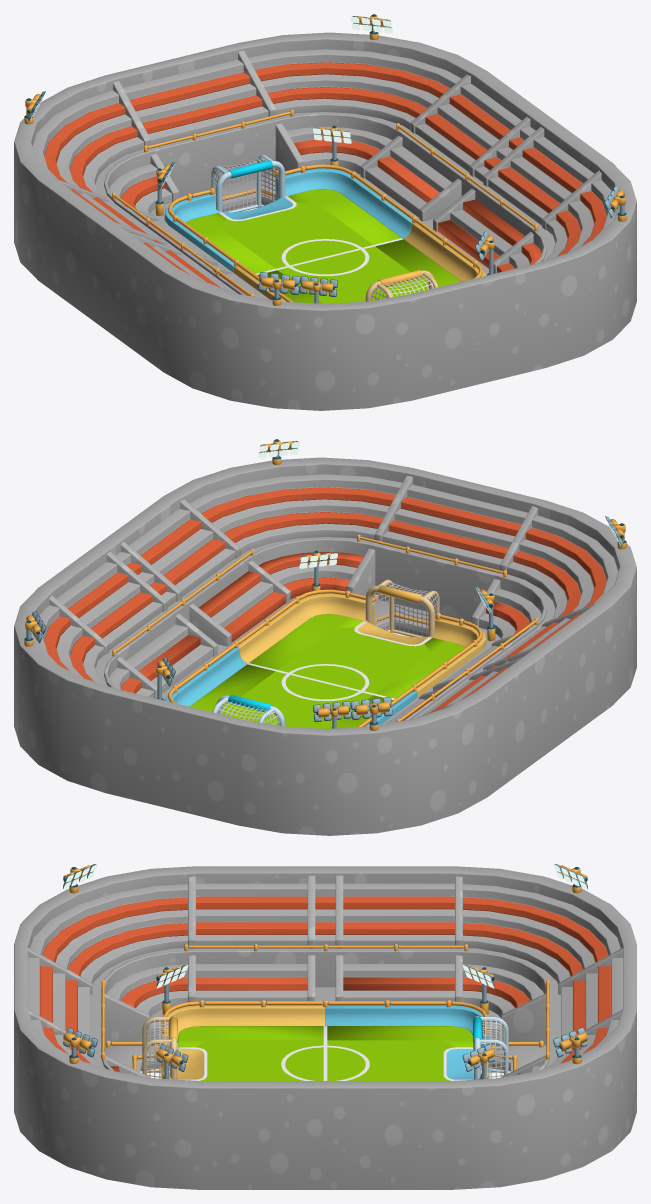
The model's file is stadium2.glb.
The picture shows the model from 3 angles, top to bottom: view 1: azimuth 30°, elevation 25°; view 2: azimuth 150°, elevation 25°; view 3: azimuth 270°, elevation 25°; orthographic projection.
Visible parts, largest first — view 1: Level10VisualsExtra, Level10Visuals, lightPosts, Level10VisualsExtra3, Level10VisualsNets; view 2: Level10VisualsExtra, Level10Visuals, lightPosts, Level10VisualsExtra3, Level10VisualsNets; view 3: Level10VisualsExtra, Level10Visuals, lightPosts, Level10VisualsExtra3, Level10VisualsNets.
Boxes of the visible parts, <box> form: Level10VisualsExtra: <box>14,32,636,410</box>; Level10Visuals: <box>164,154,486,303</box>; lightPosts: <box>24,14,626,305</box>; Level10VisualsExtra3: <box>168,164,482,302</box>; Level10VisualsNets: <box>211,157,434,300</box>; Level10VisualsExtra: <box>14,457,636,835</box>; Level10Visuals: <box>164,579,486,728</box>; lightPosts: <box>24,439,626,730</box>; Level10VisualsExtra3: <box>168,589,482,727</box>; Level10VisualsNets: <box>216,582,439,725</box>; Level10VisualsExtra: <box>14,866,636,1189</box>; Level10Visuals: <box>142,1005,508,1080</box>; lightPosts: <box>63,864,587,1079</box>; Level10VisualsExtra3: <box>106,1000,543,1078</box>; Level10VisualsNets: <box>144,1019,506,1078</box>.
Size of what is drawn, in the model's own units: 47.72 by 13.88 by 56.58.
Materials: 14 (4 with a texture image).
